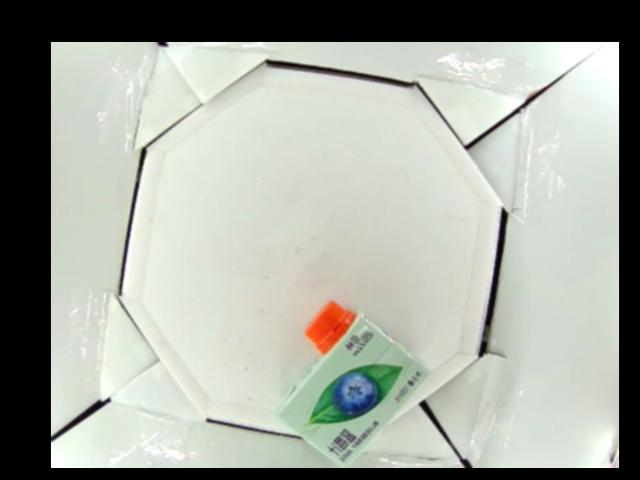Bottle: (275, 299, 423, 468)
